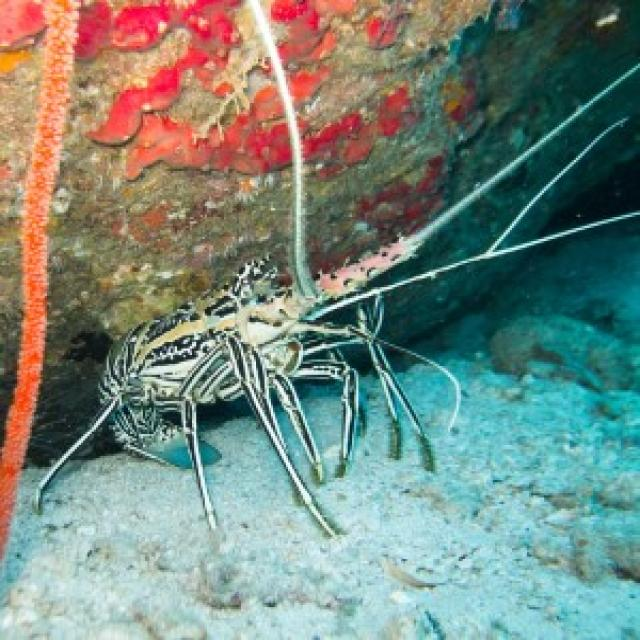lobsters: (12, 130, 640, 606)
